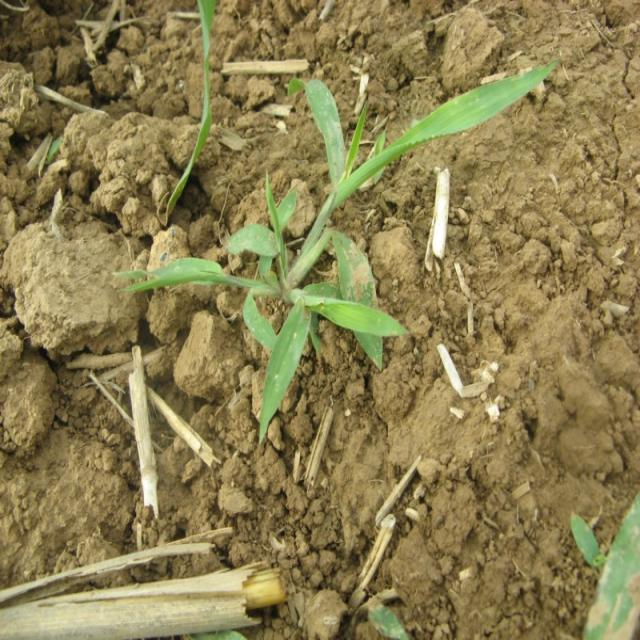bg: (119, 62, 557, 431)
